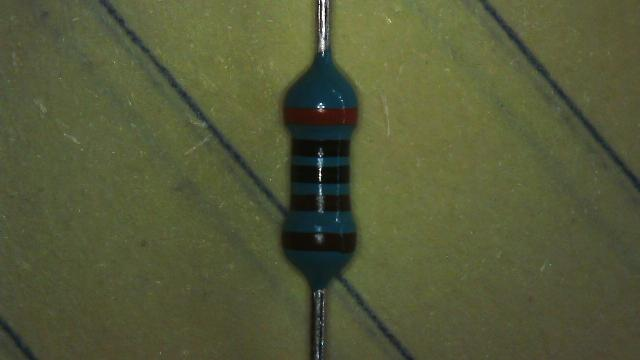black: (291, 164, 348, 182), (292, 138, 349, 156)
brown: (282, 231, 356, 252), (290, 194, 350, 211)
orange: (284, 106, 356, 125)
resistor: (271, 47, 368, 289)
